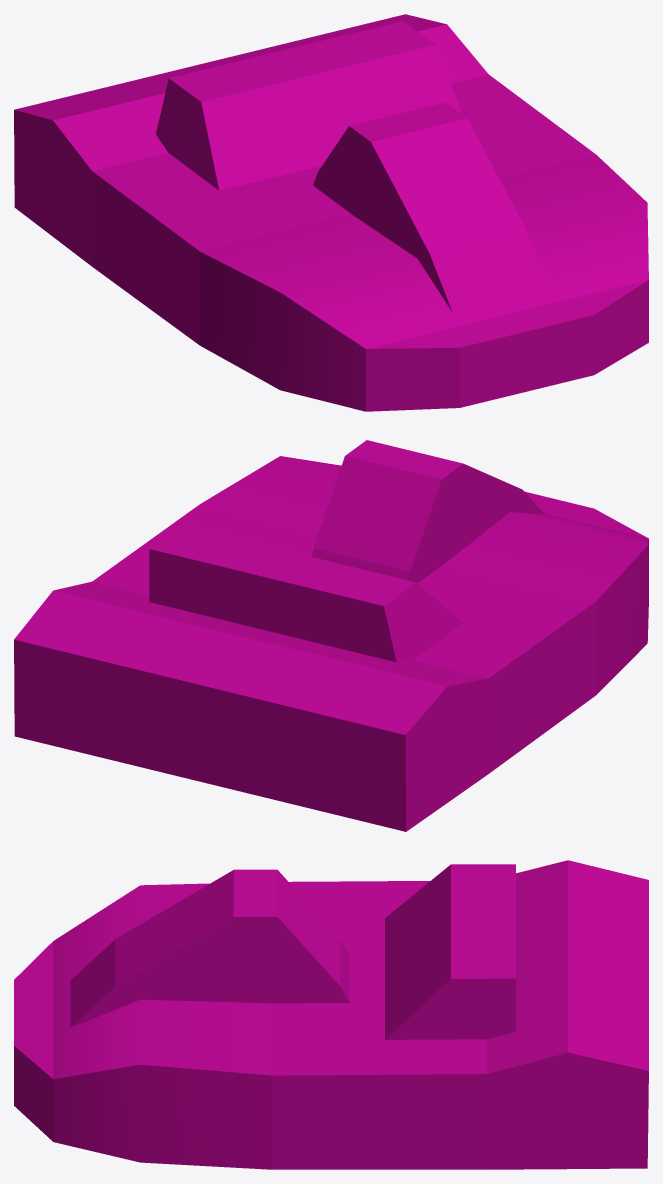
Rendered from SM_Veh_Kart_01_Preset_02_Collision.fbx.
3 views of the same model, one above another, from view 1: azimuth 30°, elevation 25°; view 2: azimuth 150°, elevation 25°; view 3: azimuth 270°, elevation 25° (orthographic).
Visible parts, largest first — view 1: SM_Veh_Kart_01_Preset_02_Collision; view 2: SM_Veh_Kart_01_Preset_02_Collision; view 3: SM_Veh_Kart_01_Preset_02_Collision.
Boxes of the visible parts, x1,y1,x2,y2 form: SM_Veh_Kart_01_Preset_02_Collision: (14,14,648,411); SM_Veh_Kart_01_Preset_02_Collision: (14,440,648,831); SM_Veh_Kart_01_Preset_02_Collision: (14,860,648,1169).
Size of the model in its own units: 141 by 61.5 by 196.
